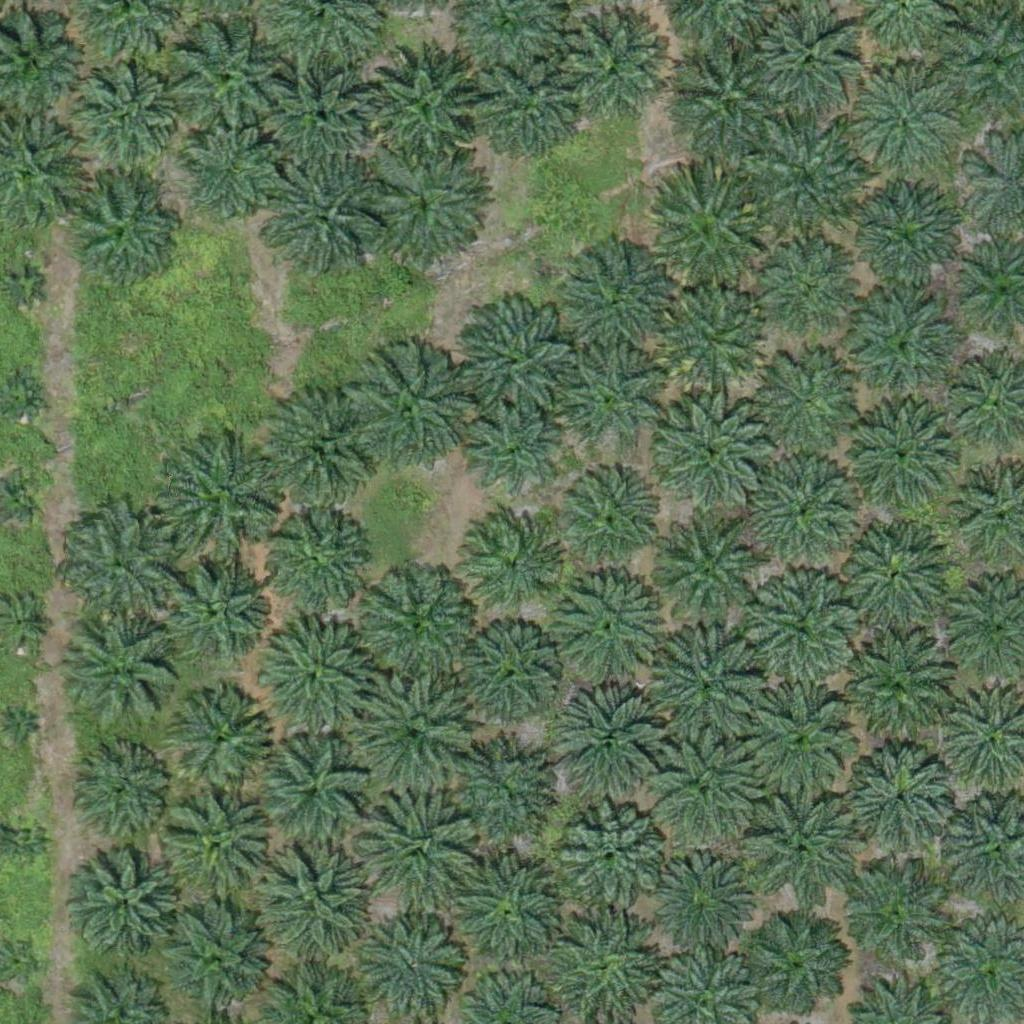Kelapa_Sawit: (161, 19, 286, 145), (261, 155, 386, 281), (360, 40, 485, 166), (364, 144, 489, 270), (451, 298, 576, 424), (345, 351, 470, 477), (162, 436, 287, 562), (352, 669, 477, 795), (354, 559, 479, 685), (249, 837, 374, 963), (356, 785, 481, 911), (644, 173, 769, 298), (62, 56, 175, 170), (175, 118, 288, 232), (264, 390, 377, 504), (66, 175, 179, 288), (467, 48, 580, 161), (754, 5, 867, 118), (850, 185, 963, 298), (840, 396, 953, 509), (658, 392, 771, 505), (655, 519, 768, 632), (649, 632, 762, 745), (548, 566, 661, 679), (648, 740, 761, 853), (742, 683, 855, 796), (254, 617, 367, 730), (253, 734, 366, 847), (746, 798, 859, 911), (642, 843, 755, 956), (549, 688, 661, 802), (160, 906, 272, 1020), (163, 789, 275, 903), (259, 63, 371, 176), (558, 11, 670, 124), (669, 41, 781, 154), (751, 128, 863, 241), (836, 517, 948, 630), (843, 635, 955, 748), (749, 344, 861, 457), (750, 454, 862, 567), (748, 570, 860, 683), (846, 748, 958, 861), (63, 509, 175, 622), (72, 615, 184, 728), (838, 865, 950, 978), (557, 801, 669, 914), (452, 855, 564, 968), (858, 70, 958, 171), (853, 294, 953, 395), (756, 237, 856, 338), (662, 287, 762, 388), (572, 249, 672, 350), (560, 347, 660, 448), (556, 468, 656, 569), (462, 400, 562, 501), (165, 559, 265, 660), (171, 687, 271, 788), (748, 915, 848, 1016), (460, 515, 560, 615), (458, 624, 558, 724), (443, 747, 543, 847), (264, 508, 364, 608), (76, 853, 176, 953), (81, 749, 168, 837), (7, 716, 32, 741)
